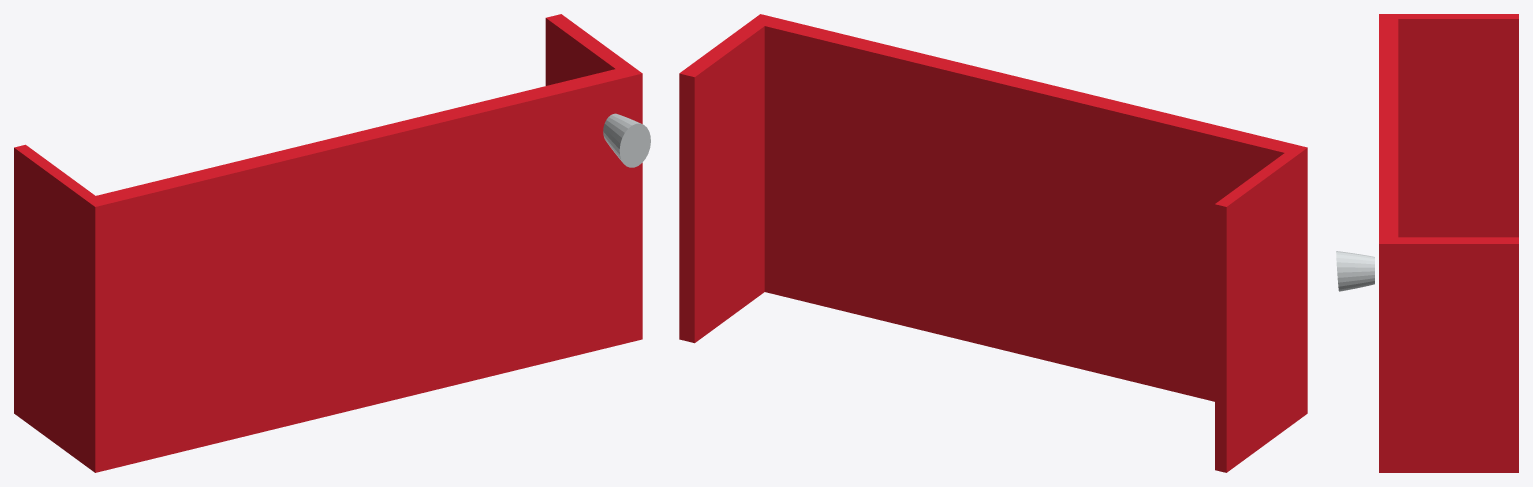
Rendered from tinker.obj.
3 renders of one model, left to right at view 1: azimuth 30°, elevation 25°; view 2: azimuth 150°, elevation 25°; view 3: azimuth 270°, elevation 25°, orthographic. The views are drawn at different scales.
Visible parts, largest first — view 1: group_0_15277357, group_0_14541540; view 2: group_0_15277357; view 3: group_0_15277357, group_0_14541540.
Boxes of the visible parts, x1,y1,x2,y2 form: group_0_15277357: [14, 14, 642, 472]; group_0_14541540: [603, 113, 650, 167]; group_0_15277357: [679, 14, 1307, 472]; group_0_15277357: [1379, 14, 1518, 472]; group_0_14541540: [1336, 251, 1374, 291].
Size of the model in its own units: 140 by 65 by 47.
